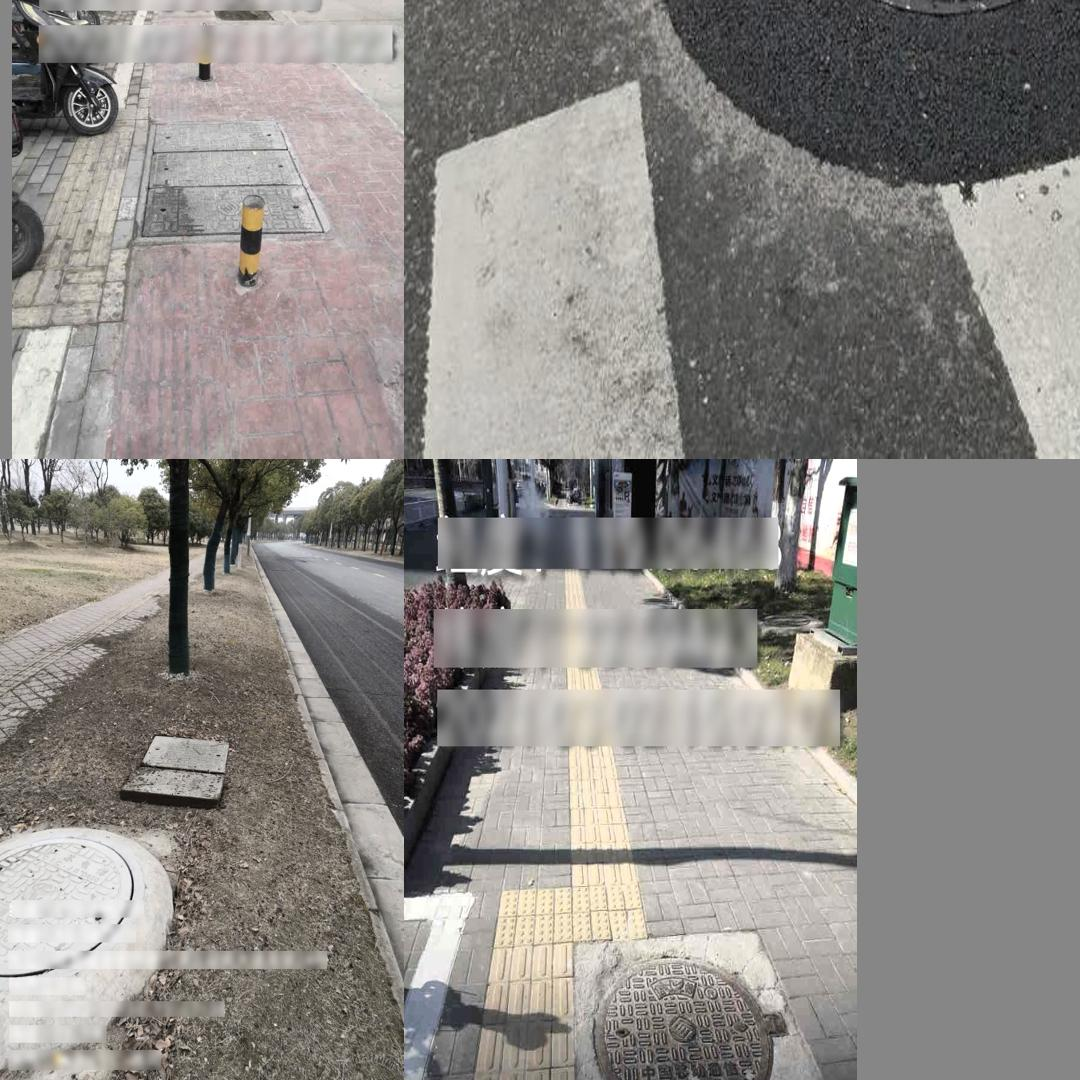good: (612, 0, 1080, 223), (594, 955, 790, 1080), (135, 112, 322, 233), (0, 835, 140, 981)
uncovered: (120, 733, 230, 805)
